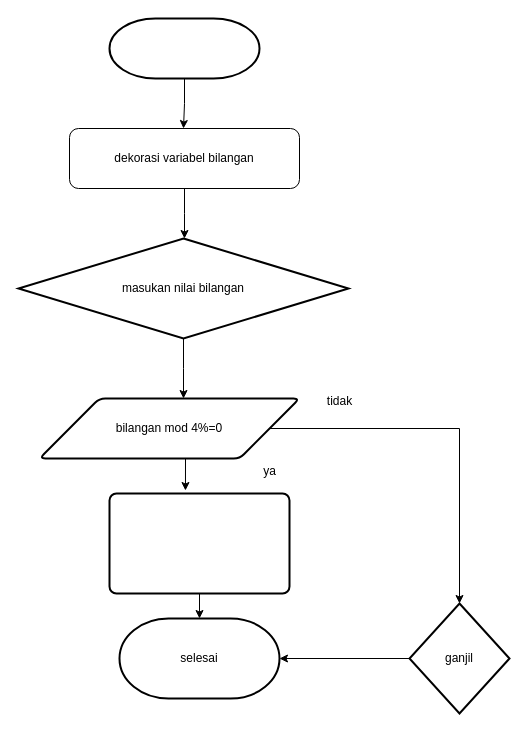
The diagram is 527 pixels wide and 731 high, and some of its shapes have lost their labels. The centre of each missing label's shape, as x and y in pixels:
"genap" belongs at [199,543].
"start" belongs at [184,48].
